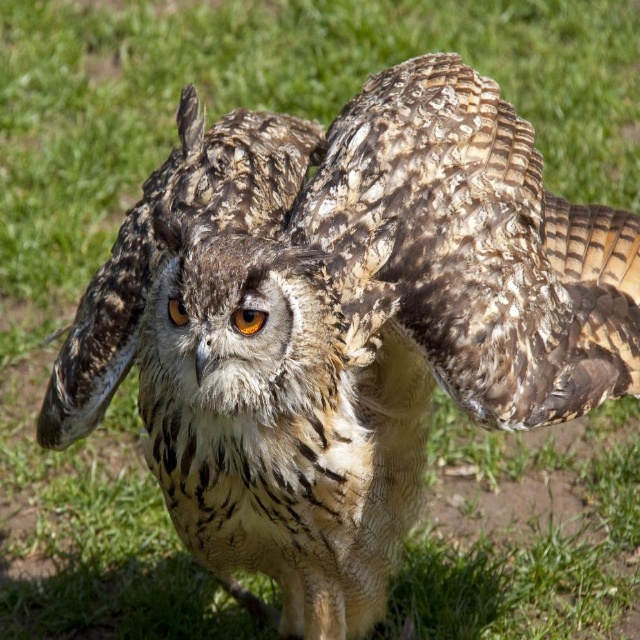Owl: (36, 47, 640, 639)
